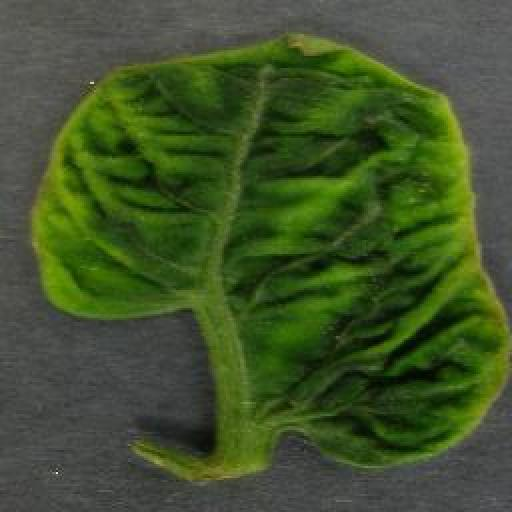disease_tomato: (28, 30, 512, 474)
